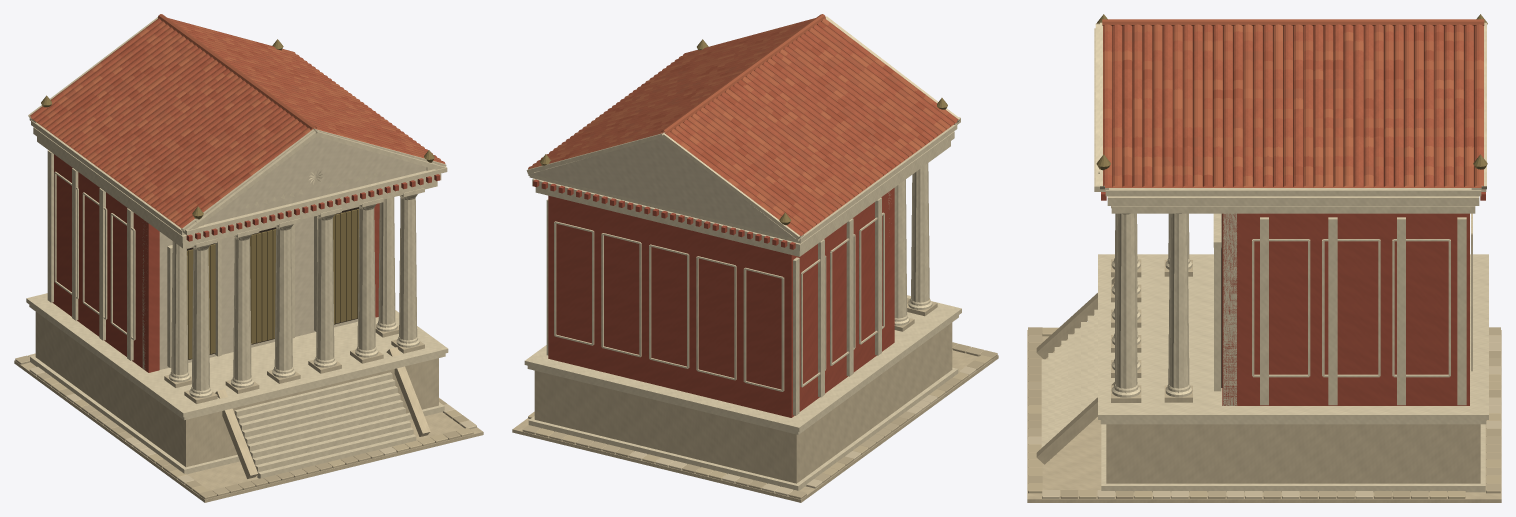
File: capitolium.glb
The picture shows the model from 3 angles, left to right: view 1: azimuth 30°, elevation 25°; view 2: azimuth 150°, elevation 25°; view 3: azimuth 270°, elevation 25°; orthographic projection. The views are drawn at different scales.
Parts seen in each view (by area): view 1: Limestone_trim.002, Limestone_trim.001, Tile_0.002, Travertine.002, Limewash.002, Pompeian_red.002, Pompeian_red.001, Tile_1.002, Travertine.001, Tile_5.002, Bronze.001, Bronze.002 (+9 smaller); view 2: Pompeian_red.001, Pompeian_red.002, Limestone_trim.002, Tile_0.002, Limestone_trim.001, Travertine.001, Travertine.002, Limewash.002, Tile_1.002, Tile_5.002, Tile_2.002, Tile_4.002 (+9 smaller); view 3: Limestone_trim.001, Pompeian_red.002, Limestone_trim.002, Tile_0.002, Travertine.002, Pompeian_red.001, Travertine.001, Tile_1.002, Tile_5.002, Tile_3.002, Tile_2.002, Tile_4.002 (+10 smaller).
Part boxes in pixels (x1=…): Limestone_trim.002: x1=26, y1=17, x2=447, y2=478; Limestone_trim.001: x1=26, y1=118, x2=448, y2=478; Tile_0.002: x1=30, y1=18, x2=445, y2=227; Travertine.002: x1=14, y1=312, x2=482, y2=501; Limewash.002: x1=142, y1=136, x2=426, y2=369; Pompeian_red.002: x1=53, y1=154, x2=439, y2=372; Pompeian_red.001: x1=52, y1=155, x2=440, y2=372; Tile_1.002: x1=41, y1=14, x2=436, y2=201; Travertine.001: x1=14, y1=312, x2=483, y2=502; Tile_5.002: x1=46, y1=21, x2=440, y2=222; Bronze.001: x1=42, y1=39, x2=433, y2=359; Bronze.002: x1=41, y1=39, x2=434, y2=353; Pompeian_red.001: x1=533, y1=179, x2=894, y2=417; Pompeian_red.002: x1=533, y1=180, x2=869, y2=417; Limestone_trim.002: x1=525, y1=16, x2=960, y2=490; Tile_0.002: x1=536, y1=19, x2=958, y2=235; Limestone_trim.001: x1=524, y1=117, x2=961, y2=490; Travertine.001: x1=512, y1=301, x2=998, y2=502; Travertine.002: x1=553, y1=298, x2=998, y2=501; Limewash.002: x1=530, y1=138, x2=795, y2=238; Tile_1.002: x1=532, y1=14, x2=922, y2=227; Tile_5.002: x1=528, y1=25, x2=950, y2=223; Tile_2.002: x1=583, y1=25, x2=956, y2=235; Tile_4.002: x1=560, y1=21, x2=929, y2=214; Limestone_trim.001: x1=1041, y1=28, x2=1488, y2=492; Pompeian_red.002: x1=1101, y1=192, x2=1485, y2=405; Limestone_trim.002: x1=1049, y1=22, x2=1488, y2=491; Tile_0.002: x1=1103, y1=24, x2=1483, y2=186; Travertine.002: x1=1028, y1=259, x2=1500, y2=502; Pompeian_red.001: x1=1101, y1=192, x2=1485, y2=405; Travertine.001: x1=1027, y1=259, x2=1501, y2=502; Tile_1.002: x1=1102, y1=19, x2=1484, y2=186; Tile_5.002: x1=1103, y1=24, x2=1483, y2=186; Tile_3.002: x1=1103, y1=24, x2=1483, y2=186; Tile_2.002: x1=1105, y1=24, x2=1483, y2=187; Tile_4.002: x1=1122, y1=31, x2=1483, y2=186.
Size of the model in its own units: 15.2 by 16.71 by 18.
Materials: 16 (5 with a texture image).
